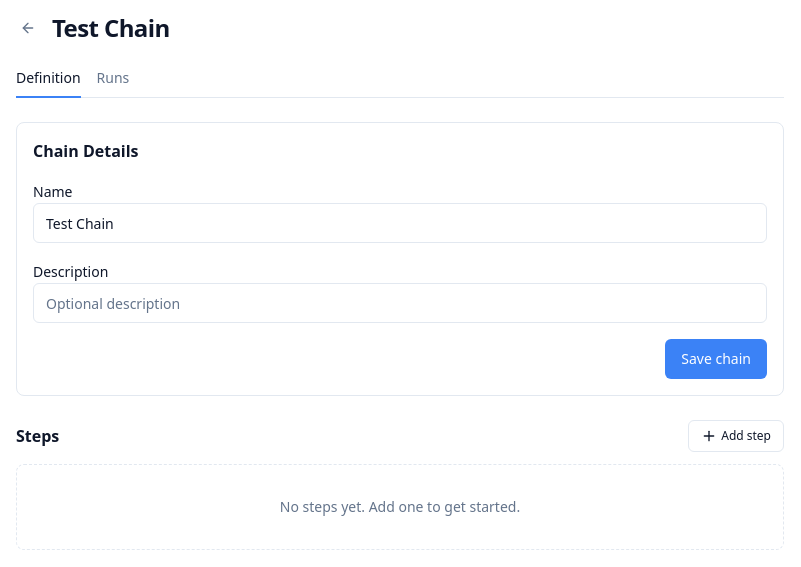
Test: WorkflowChainEditorPage - Tab bar › clicking Runs tab shows runs content
Step 1. Click the button "runs" → point(113, 83), box [97, 68, 129, 98]
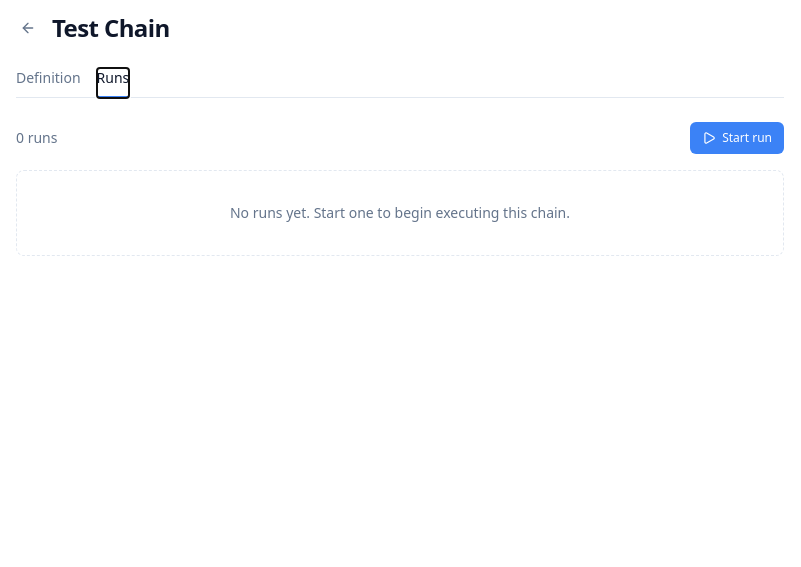
Expected: the text "No runs yet. Start one to begin executing this chain." is shown, [230, 203, 570, 222]
